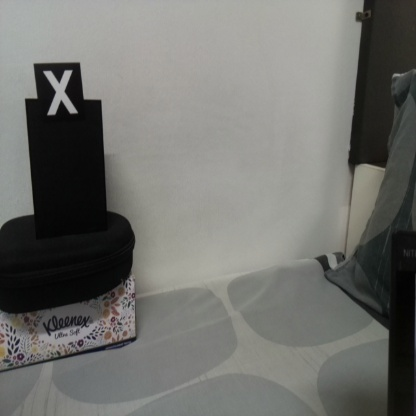id_13: (32, 61, 86, 129)
